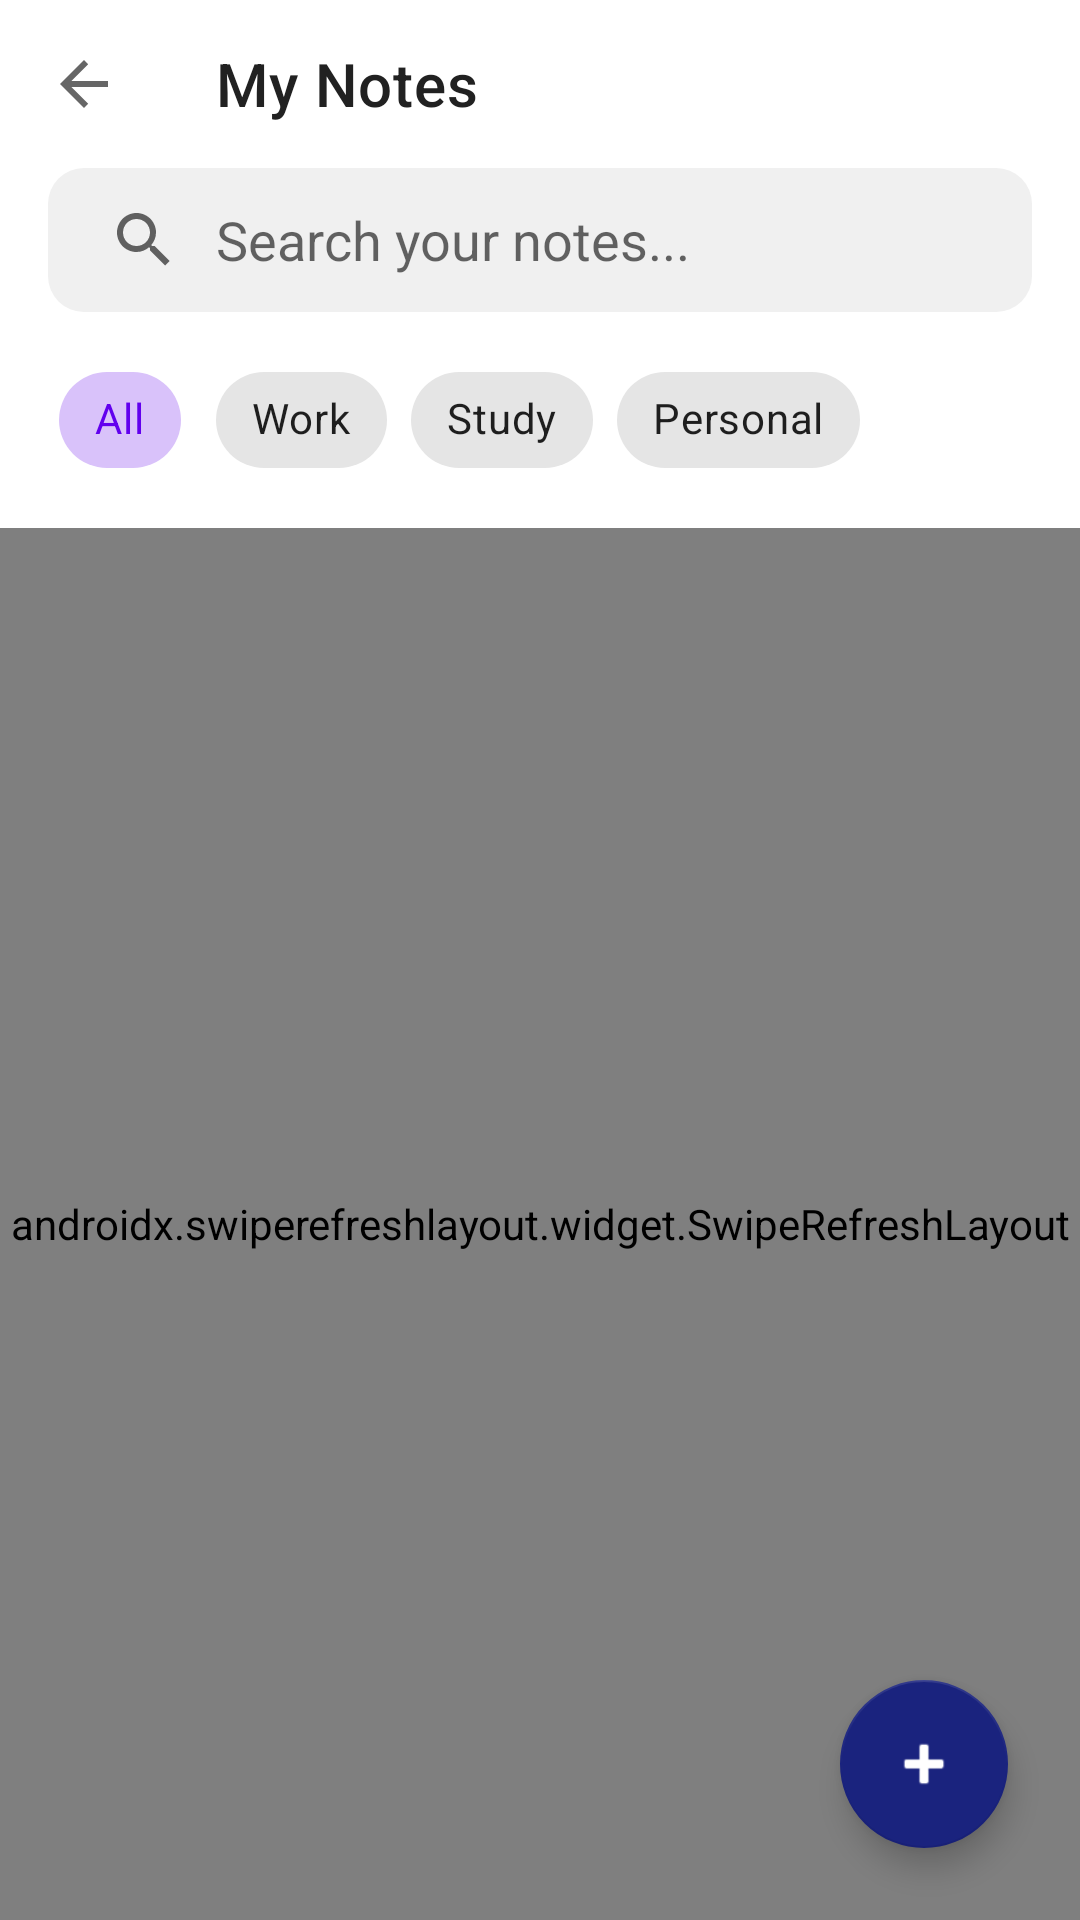

Named icons in this screenshot (1080x1920) and their centers, [x,y]:
Add new note: [924,1764]
